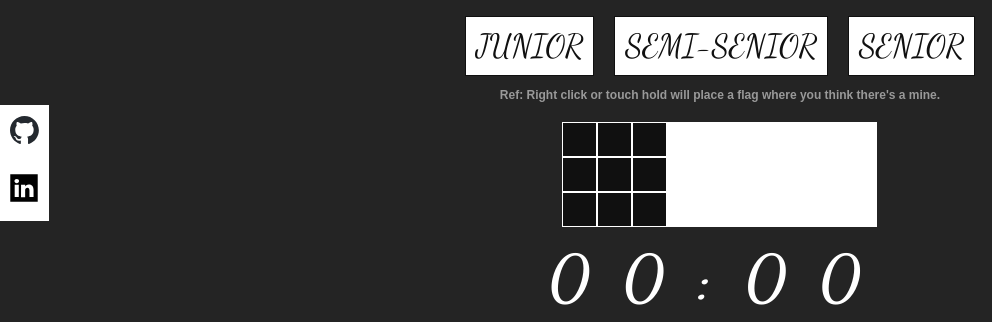
Test: MineSweeper › Game › should add a flag when right click on a cell
Click the 1st element with class "cell" at {"x": 580, "y": 139}, box [562,122,598,156]
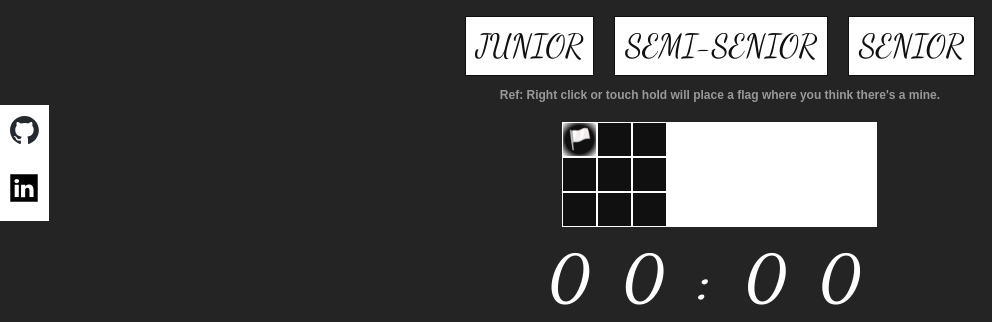
Now the number of elements with class "flag" is 1, box [564,122,596,156]
